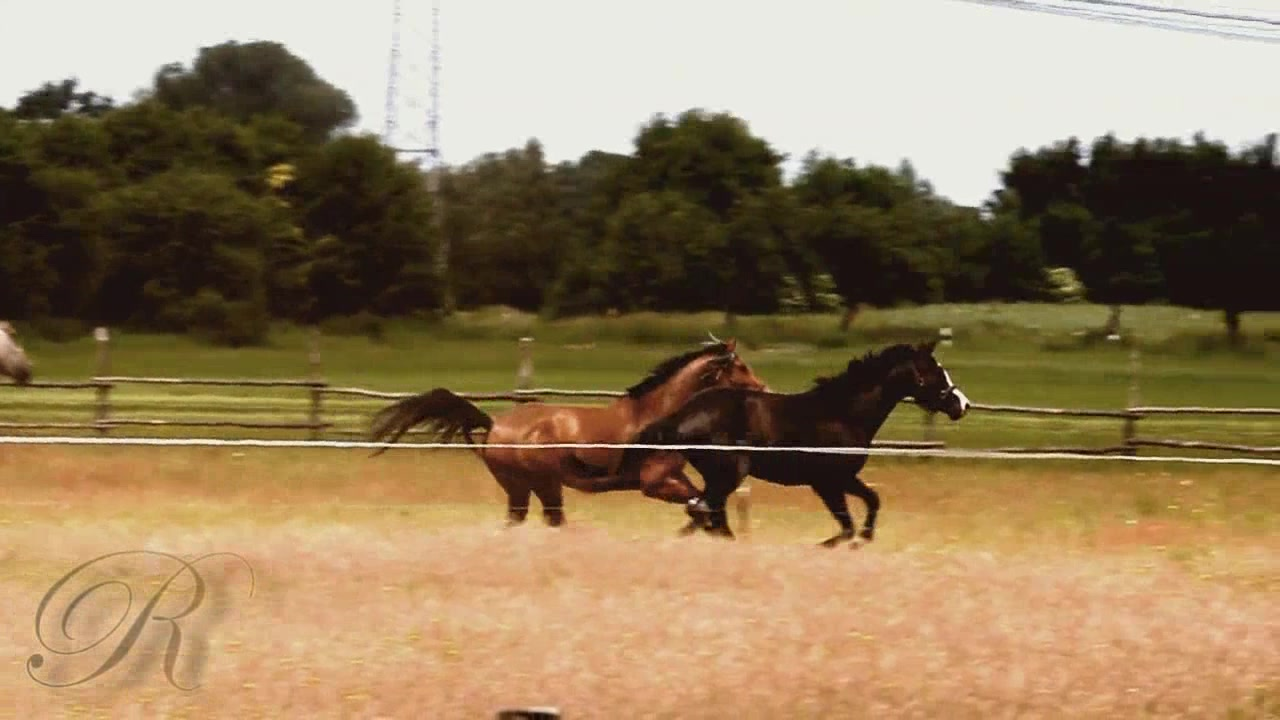horse: (361, 333, 776, 536), (616, 340, 974, 551), (1, 314, 43, 391)
